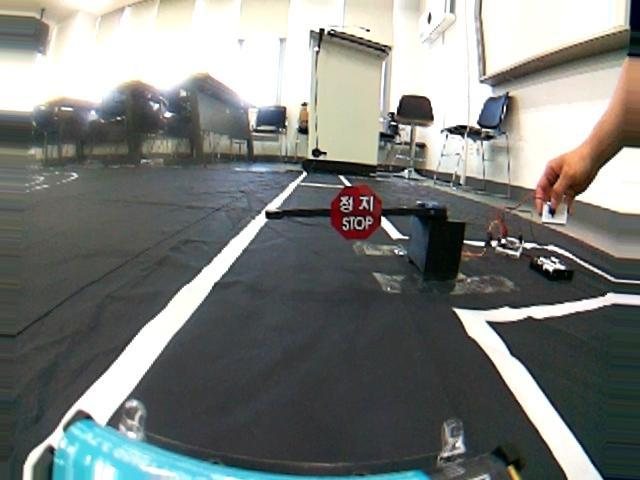sign_stop: (331, 183, 382, 243)
straight: (4, 248, 640, 480)
